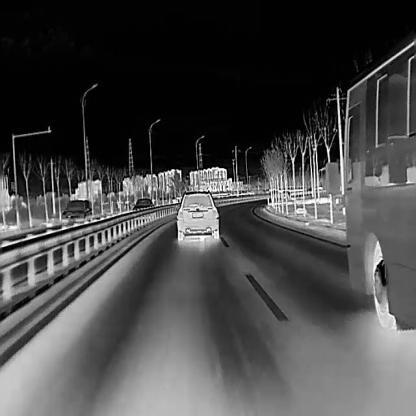car: (323, 39, 415, 333), (175, 189, 221, 242), (60, 199, 93, 233), (131, 197, 154, 217)
